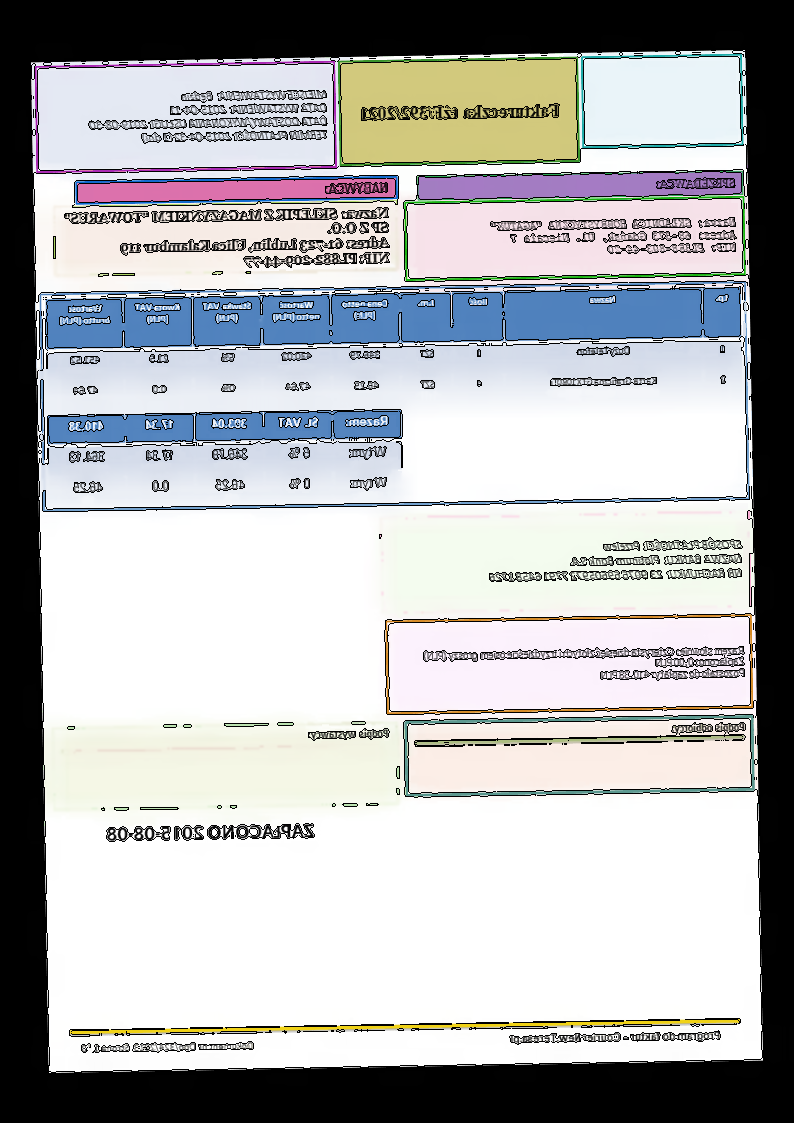Table: (45, 285, 743, 412), (47, 408, 404, 507)
TextBox: (62, 206, 392, 272), (87, 88, 329, 146), (422, 643, 746, 685), (487, 536, 745, 584), (490, 214, 738, 258), (359, 101, 561, 122), (106, 822, 315, 842), (509, 1028, 723, 1047), (80, 1038, 255, 1056), (653, 175, 738, 192), (307, 726, 391, 743), (670, 720, 747, 735), (324, 180, 390, 196)
